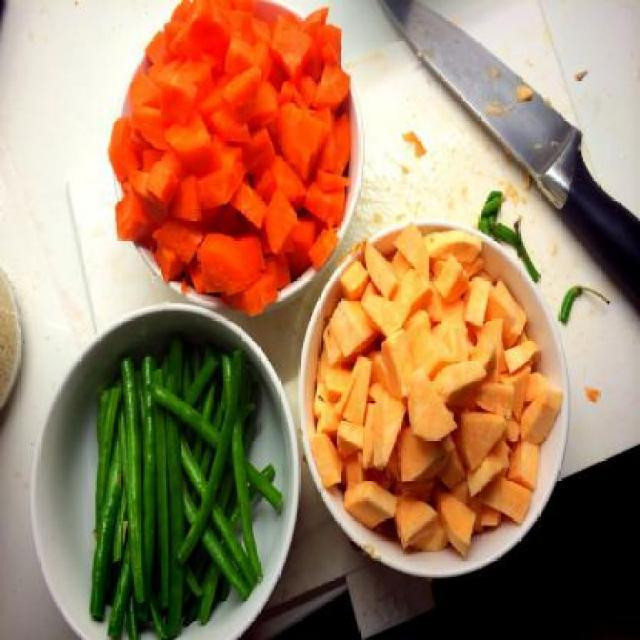Carrot: (106, 1, 354, 324), (192, 218, 260, 296)
